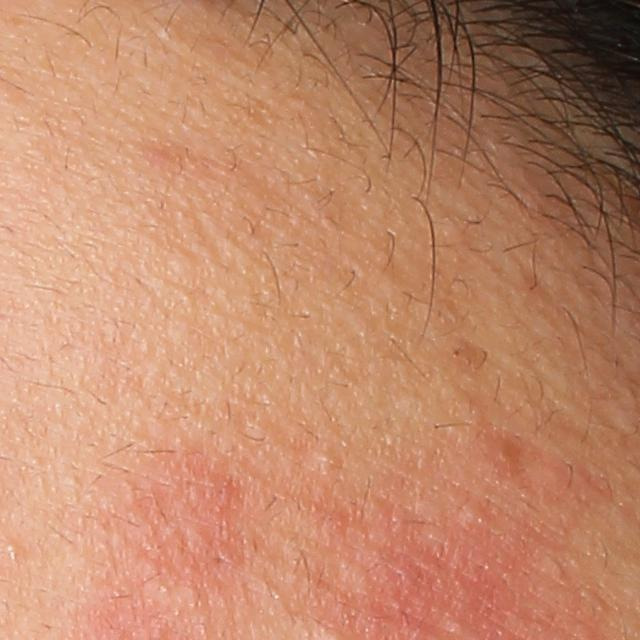comedo: (313, 446, 336, 470), (4, 539, 20, 557)
